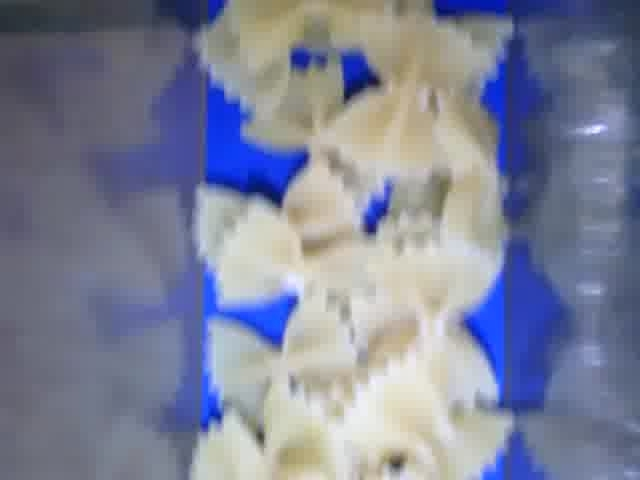farfalle: (326, 23, 480, 183), (213, 194, 391, 315), (210, 291, 360, 410), (388, 249, 495, 409)
